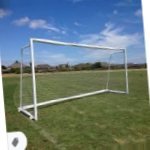goals: (15, 36, 132, 121)
